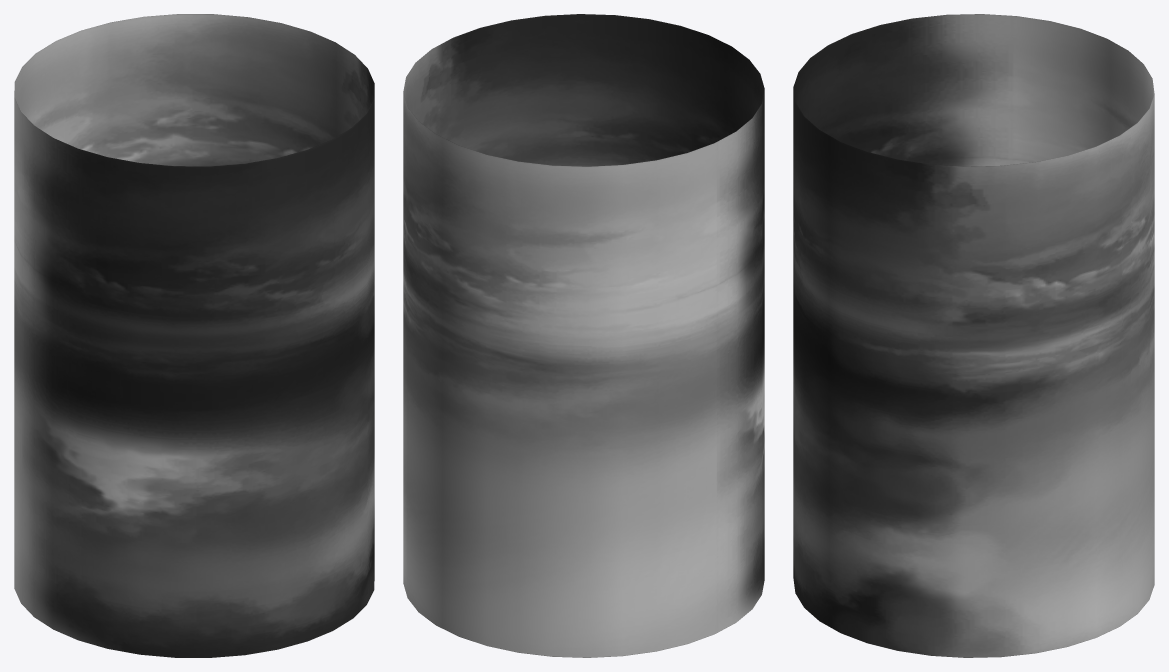
Rendered from stageProb.fbx.
3 views of the same model, side by side, from view 1: azimuth 30°, elevation 25°; view 2: azimuth 150°, elevation 25°; view 3: azimuth 270°, elevation 25° (orthographic).
Visible parts, largest first — view 1: ringSky; view 2: ringSky; view 3: ringSky.
Boxes of the visible parts, x1,y1,x2,y2 form: ringSky: (14,14,374,657); ringSky: (403,14,764,657); ringSky: (793,14,1154,657).
Bounding box in the file's own units: 120 × 180 × 120.
Materials: 1 (1 with a texture image).
